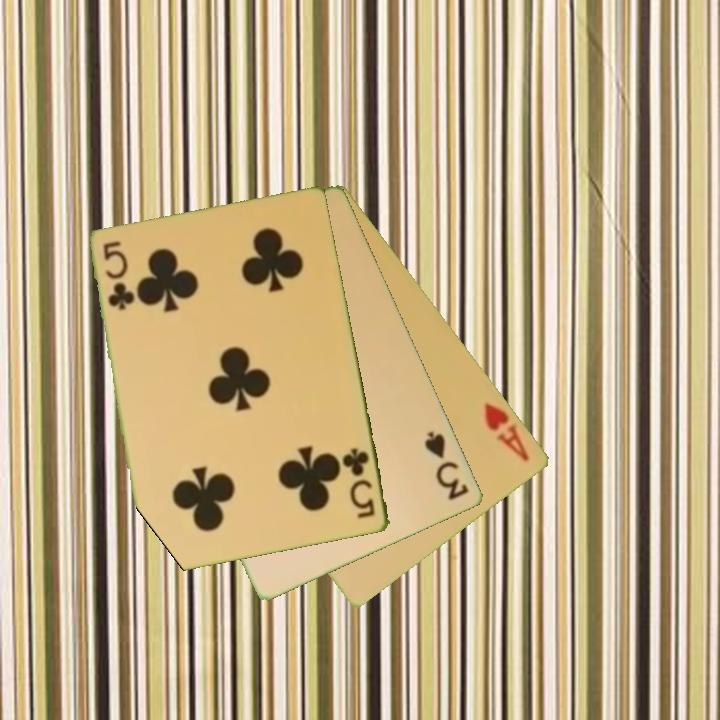3s: (421, 428, 472, 504)
5c: (339, 444, 379, 522), (100, 238, 134, 314)
Ah: (481, 399, 533, 464)
